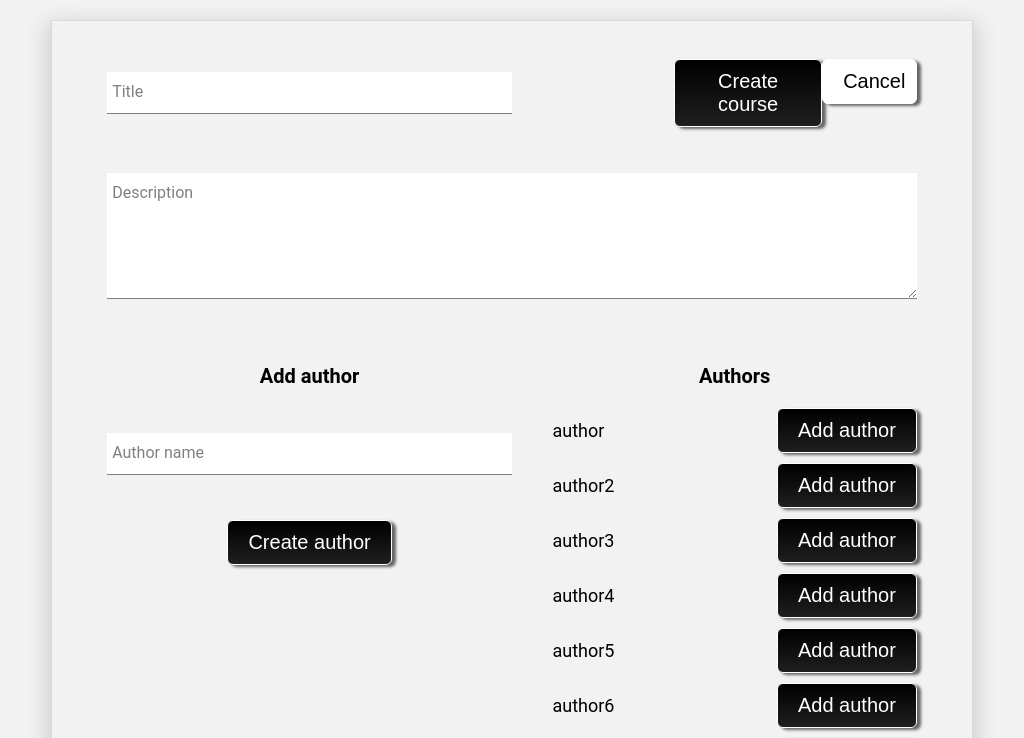
it: COURSE FORM › renders authors lists
This screenshot has width=1024, height=738.
Expected: the list item with test id "authors" showing "author Add author" is shown, [552, 408, 917, 453]
Click the 1st button with test id "select-author".
click(847, 430)  # box [777, 408, 917, 453]
(page scrolled)
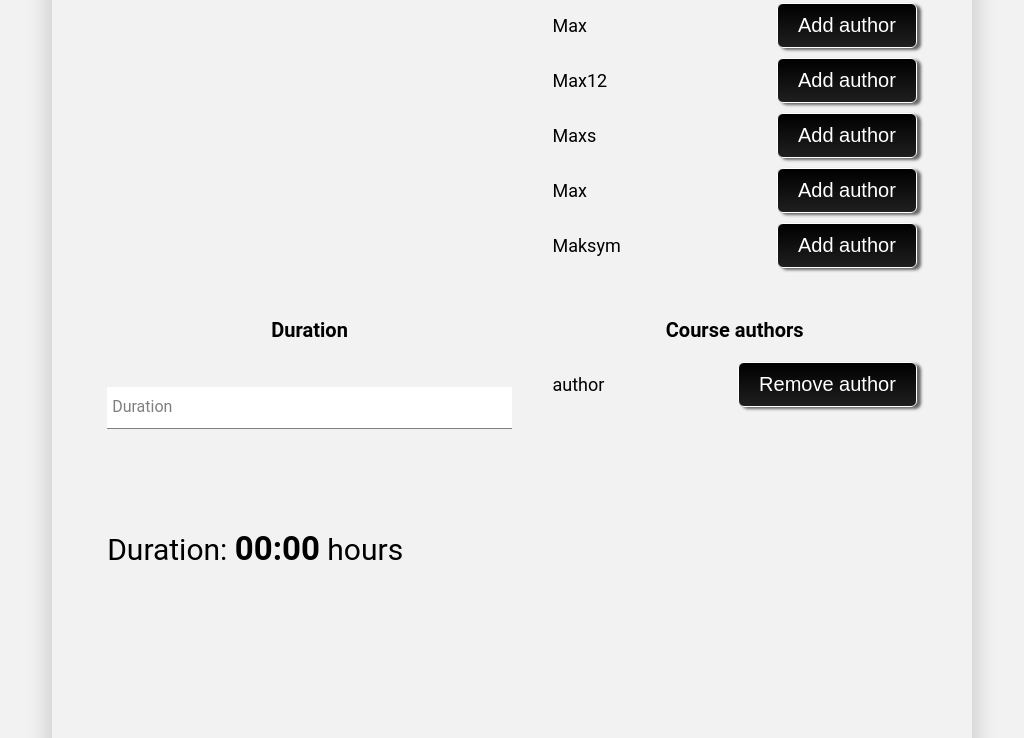
Expected: the list item with test id "course-authors" is shown, [552, 362, 917, 407]
